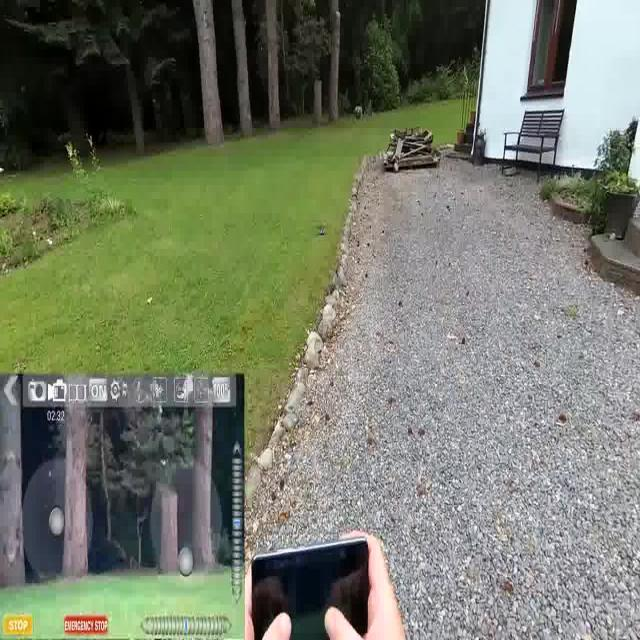drones: (311, 222, 330, 242)
